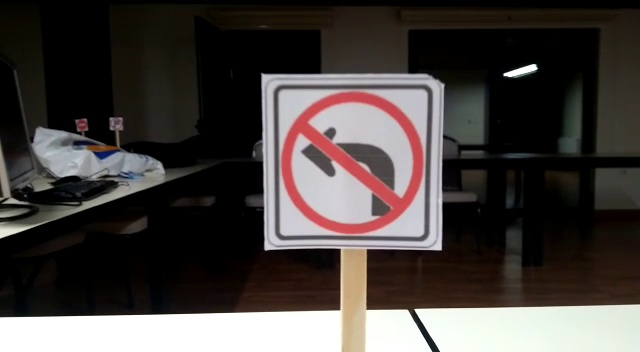sola_donulmez: (267, 95, 423, 242)
